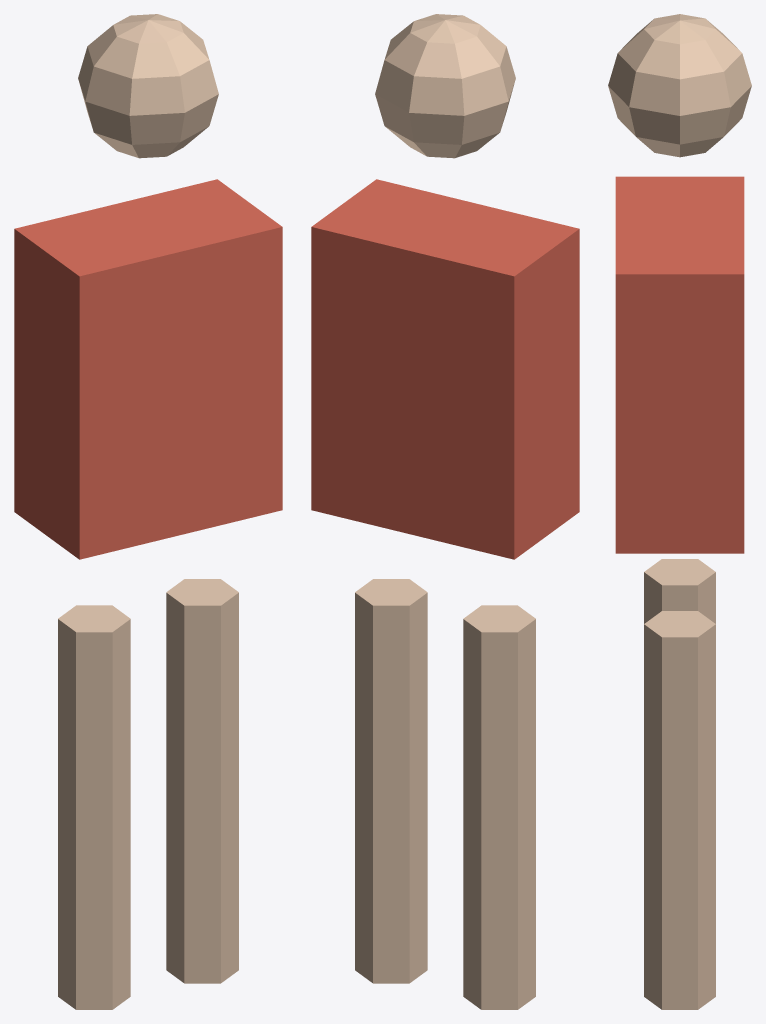
3 renders of one model, left to right at view 1: azimuth 30°, elevation 25°; view 2: azimuth 150°, elevation 25°; view 3: azimuth 270°, elevation 25°, orthographic.
Visible parts, largest first — view 1: Cube, Cylinder.001, Cylinder, Sphere; view 2: Cube, Cylinder.001, Cylinder, Sphere; view 3: Cube, Cylinder.001, Sphere, Cylinder.
Part boxes in pixels (bbox=[...]): Cube: bbox=[14, 179, 282, 559]; Cylinder.001: bbox=[166, 579, 238, 983]; Cylinder: bbox=[58, 605, 130, 1009]; Sphere: bbox=[78, 14, 218, 158]; Cube: bbox=[311, 179, 579, 559]; Cylinder.001: bbox=[355, 579, 427, 983]; Cylinder: bbox=[463, 605, 535, 1009]; Sphere: bbox=[375, 14, 515, 158]; Cube: bbox=[615, 176, 744, 553]; Cylinder.001: bbox=[644, 611, 715, 1009]; Sphere: bbox=[608, 14, 751, 157]; Cylinder: bbox=[644, 559, 715, 623].
Size of the model in its own units: 0.45 by 2.04 by 0.28.
